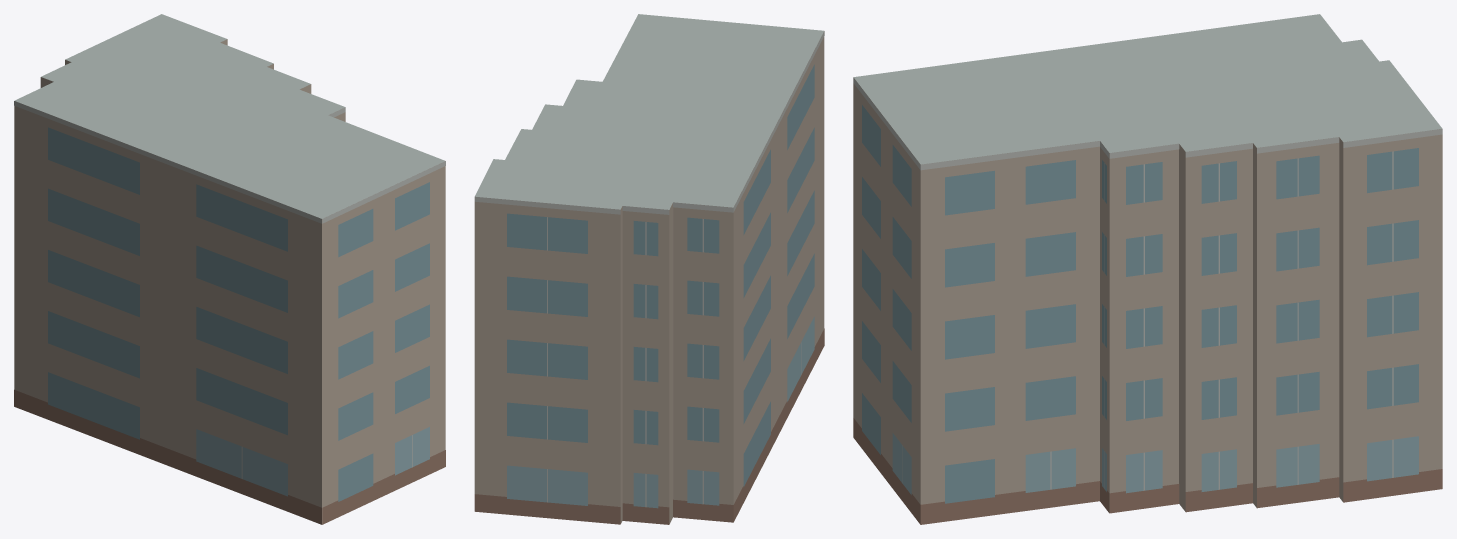
The model's file is survey-upis-32756713.glb.
The picture shows the model from 3 angles, left to right: view 1: azimuth 30°, elevation 25°; view 2: azimuth 150°, elevation 25°; view 3: azimuth 270°, elevation 25°; orthographic projection. The views are drawn at different scales.
Visible parts, largest first — view 1: survey-upis-32756713.tmp; view 2: survey-upis-32756713.tmp; view 3: survey-upis-32756713.tmp.
Part boxes in pixels (x1=…): survey-upis-32756713.tmp: x1=14, y1=14, x2=445, y2=524; survey-upis-32756713.tmp: x1=474, y1=14, x2=824, y2=524; survey-upis-32756713.tmp: x1=853, y1=14, x2=1442, y2=524.
Size of the model in its own units: 13.68 by 15.25 by 22.61.
